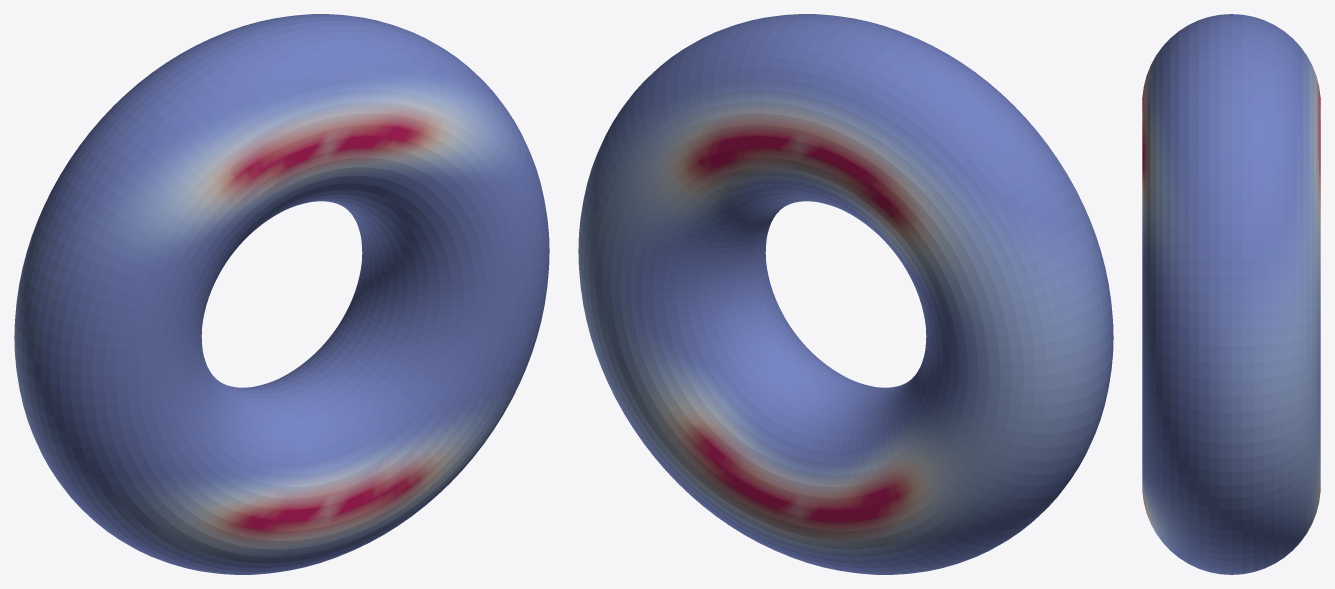
3 renders of one model, left to right at view 1: azimuth 30°, elevation 25°; view 2: azimuth 150°, elevation 25°; view 3: azimuth 270°, elevation 25°, orthographic. The views are drawn at different scales.
Visible parts, largest first — view 1: world; view 2: world; view 3: world.
Boxes of the visible parts, x1,y1,x2,y2 form: world: (14, 14, 549, 574); world: (578, 14, 1113, 574); world: (1142, 14, 1320, 574).
Bounding box in the file's own units: 14.67 × 14.67 × 4.66.
